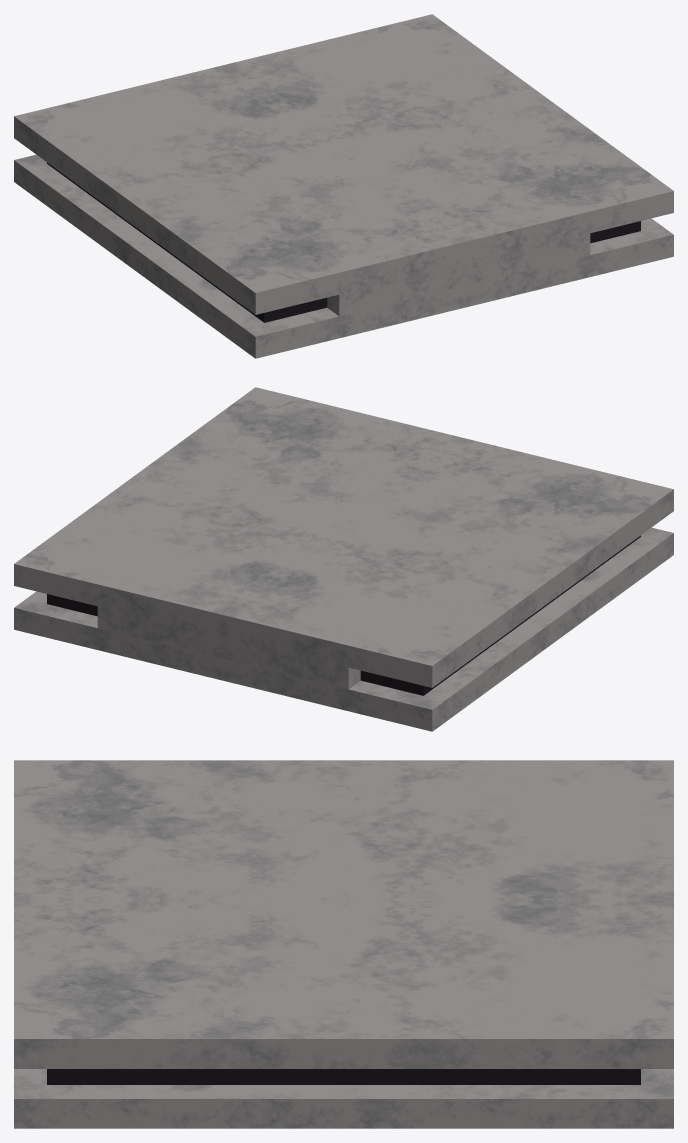
Rendered from Tower_Cap_01.fbx.
3 renders of one model, top to bottom at view 1: azimuth 30°, elevation 25°; view 2: azimuth 150°, elevation 25°; view 3: azimuth 270°, elevation 25°, orthographic. The views are drawn at different scales.
Parts seen in each view (by area): view 1: Tower_Cap_01; view 2: Tower_Cap_01; view 3: Tower_Cap_01.
Part boxes in pixels (x1,y1,x2,y2): Tower_Cap_01: (14, 14, 673, 358); Tower_Cap_01: (14, 387, 673, 731); Tower_Cap_01: (14, 760, 673, 1128).
Bounding box in the file's own units: 2000 × 300 × 2000.
